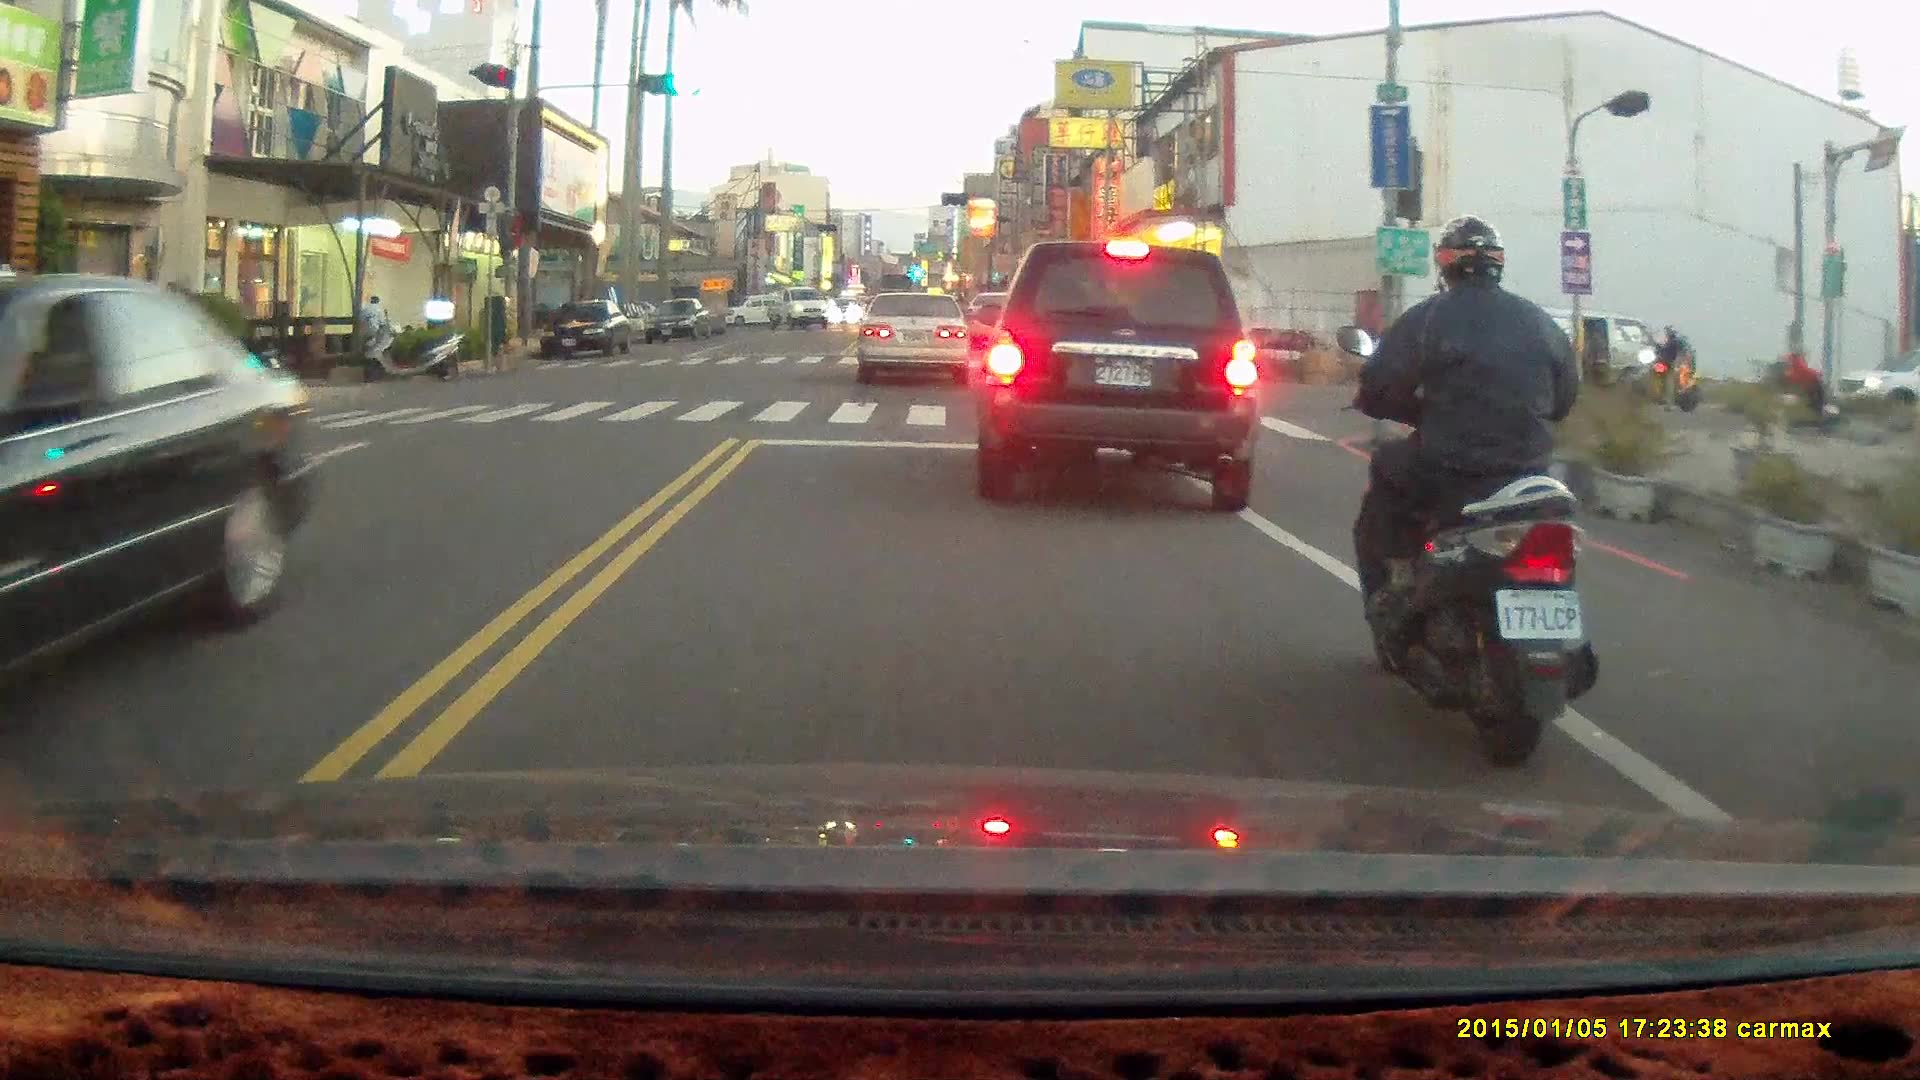pedestrian: (359, 292, 389, 360), (1584, 320, 1607, 390)
rider: (1333, 212, 1600, 766), (1758, 341, 1839, 434), (1627, 318, 1698, 409)
vehicle: (1, 272, 322, 738), (978, 238, 1259, 514), (1466, 306, 1675, 408), (860, 292, 973, 388), (539, 299, 636, 357), (643, 299, 711, 348)
